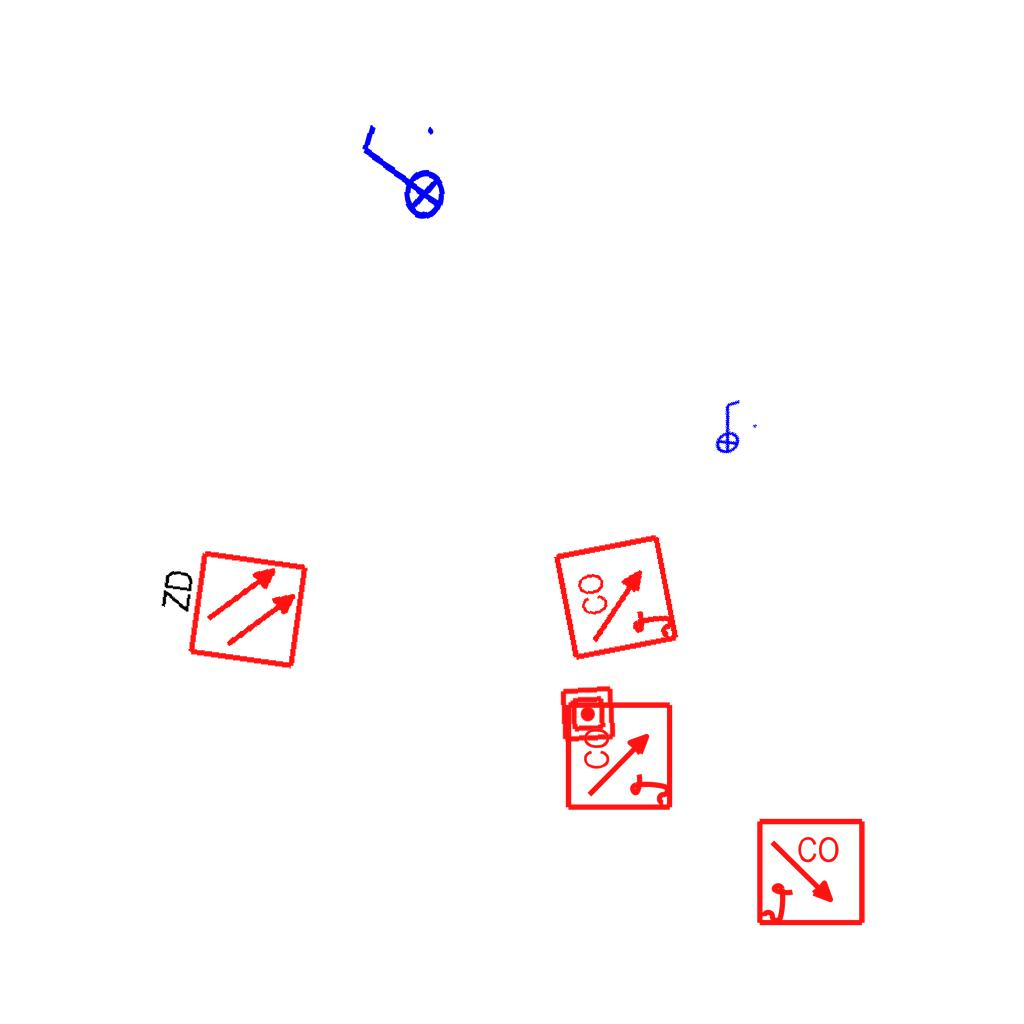Ausschalter_beleuchtet: (347, 115, 453, 235), (691, 391, 765, 463)
NAM-Nichtautomatischer_Melder: (558, 684, 618, 744)
ROA_Rauchmelder_optisch_mit_Signalgeber_(Sockelsirene): (551, 530, 684, 663), (755, 817, 868, 930), (564, 699, 677, 812)
ZD_Melder_in_Zwischendecke_mit_Revisionsoeffnung_mind_40_x_40_cm: (147, 541, 311, 676)
